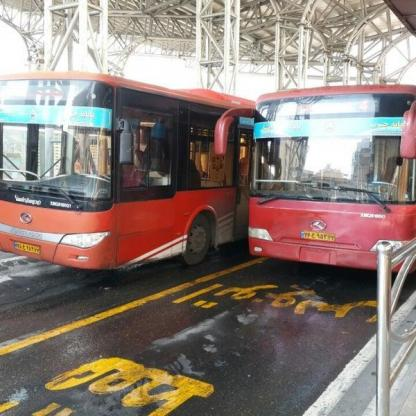Bus: (0, 70, 254, 278), (244, 81, 416, 278)
